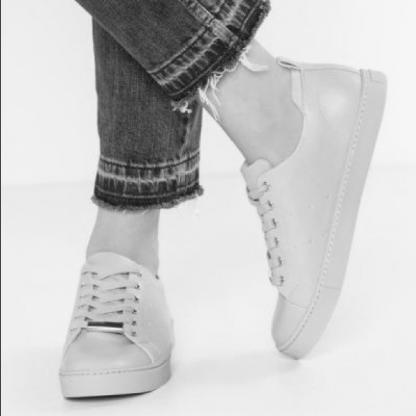ankle: (300, 126, 306, 132), (153, 263, 157, 266)
heel: (357, 70, 361, 76), (167, 341, 171, 345)
left_foot: (61, 256, 175, 399)
pinky: (149, 362, 153, 368), (274, 318, 278, 323)
right_foot: (243, 65, 388, 362)
toe: (64, 368, 70, 373), (294, 325, 298, 330)
